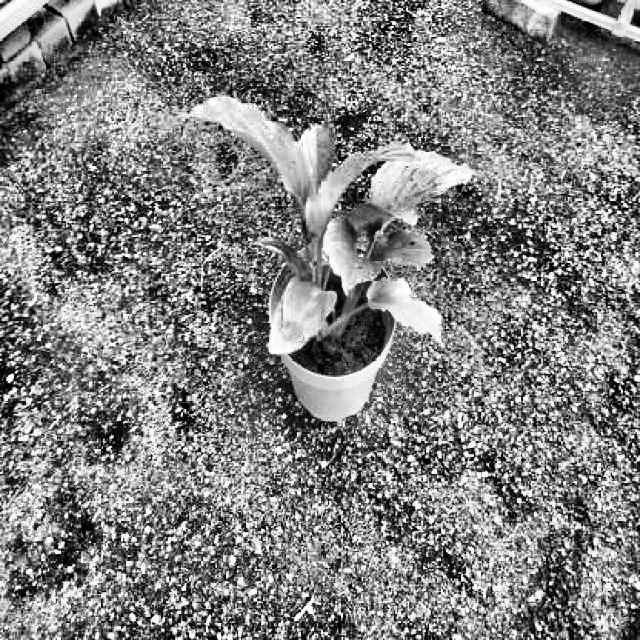plants: (181, 92, 474, 352)
